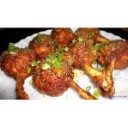chicken_lollipop: (32, 52, 97, 99), (66, 40, 119, 95), (1, 46, 37, 99), (28, 32, 57, 60), (51, 27, 75, 51)
